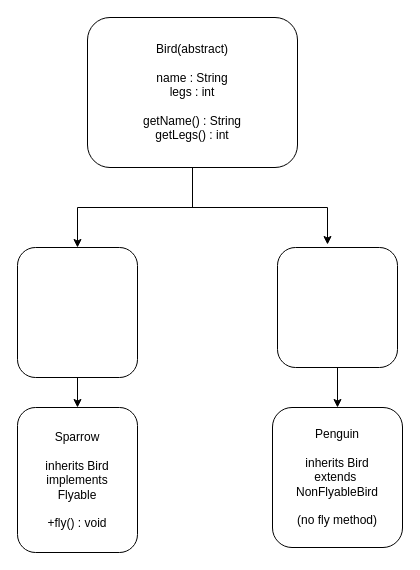
The diagram is 420 pixels wide and 570 high, and some of its shapes have lost their labels. The shapes that lost their labels are listed below. From the top down, each one's centre as x and y in pixels, then its label:
(x=77, y=312): Flyable (interface) fly() : void
(x=337, y=307): NonFlyableBird (abstract) (no fly method)
